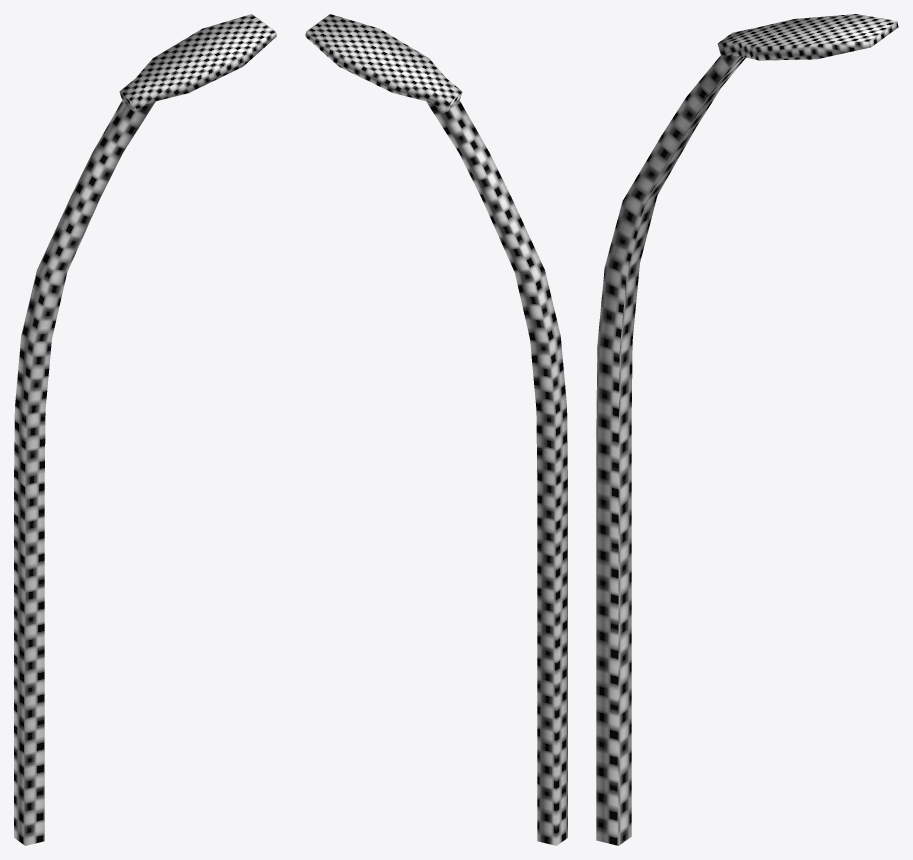
The model's file is Poste_Luz.obj.
The picture shows the model from 3 angles, left to right: view 1: azimuth 30°, elevation 25°; view 2: azimuth 150°, elevation 25°; view 3: azimuth 330°, elevation 25°; orthographic projection. The views are drawn at different scales.
Parts seen in each view (by area): view 1: Poste_Luz; view 2: Poste_Luz; view 3: Poste_Luz.
Part boxes in pixels (<box>): Poste_Luz: <box>14,14,276,845</box>; Poste_Luz: <box>305,14,567,845</box>; Poste_Luz: <box>596,14,898,845</box>.
Size of the model in its own units: 19.7 by 58.31 by 5.25.
Materials: 1 (1 with a texture image).
